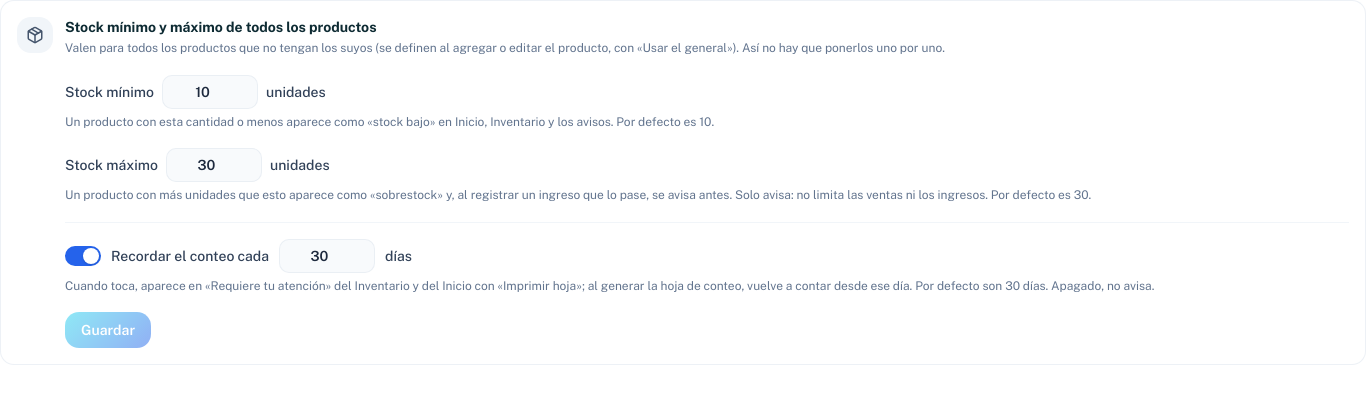
Configuración → Inventario › el máximo debe ser mayor que el mínimo y los dos deben ser números dentro del rango
This screenshot has width=1366, height=402.
Replace the text in the number field labelled "Stock máximo unidades" with "10" at (214, 165), box [166, 148, 262, 182]
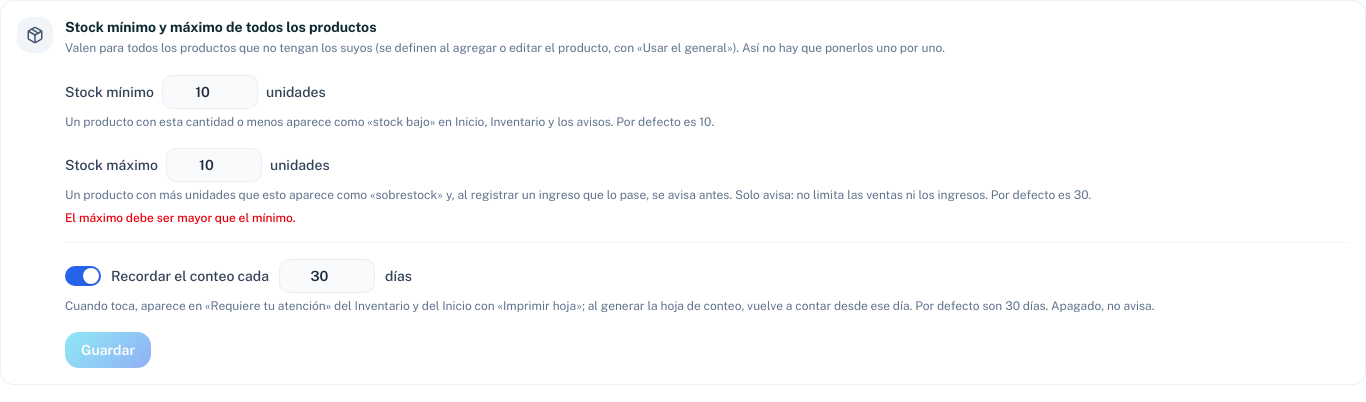
Check: the button "Guardar" is disabled, box [65, 332, 151, 368]
Check: the message reads "El máximo debe ser mayor que el mínimo.", box [65, 210, 296, 224]
Replace the text in the number field labelled "Stock máximo unidades" with "0" at (214, 165), box [166, 148, 262, 182]
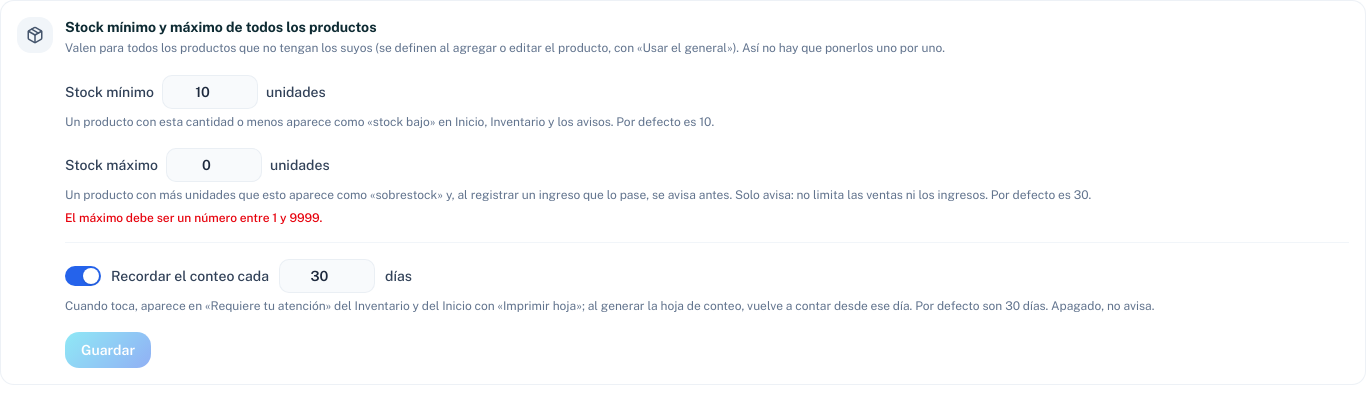
Check: the message shows "El máximo debe ser un número entre 1 y 9999", box [65, 210, 322, 224]
Replace the text in the number field labelled "Stock máximo unidades" with "30" at (214, 165), box [166, 148, 262, 182]
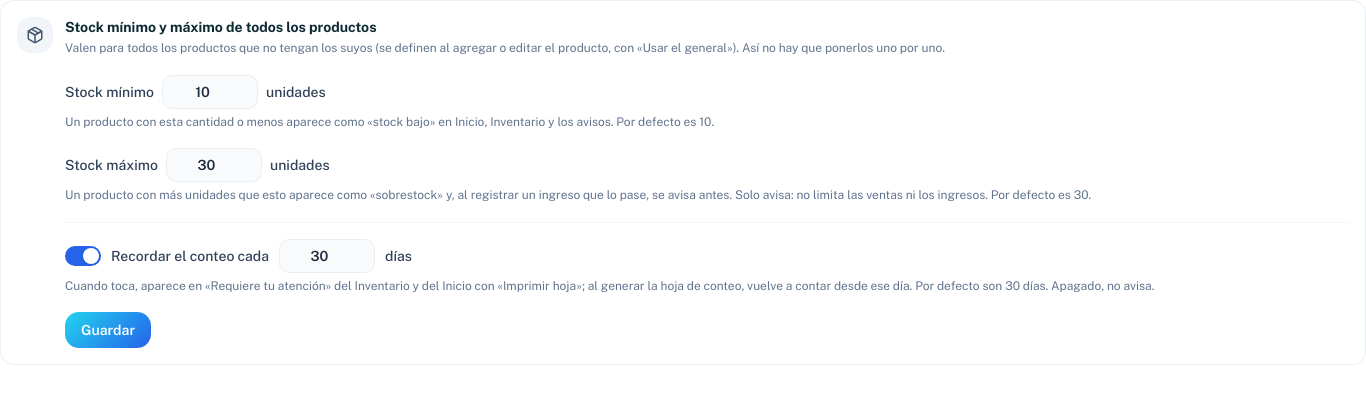
Replace the text in the number field labelled "Stock mínimo unidades" with "-1" at (210, 92), box [162, 74, 258, 108]
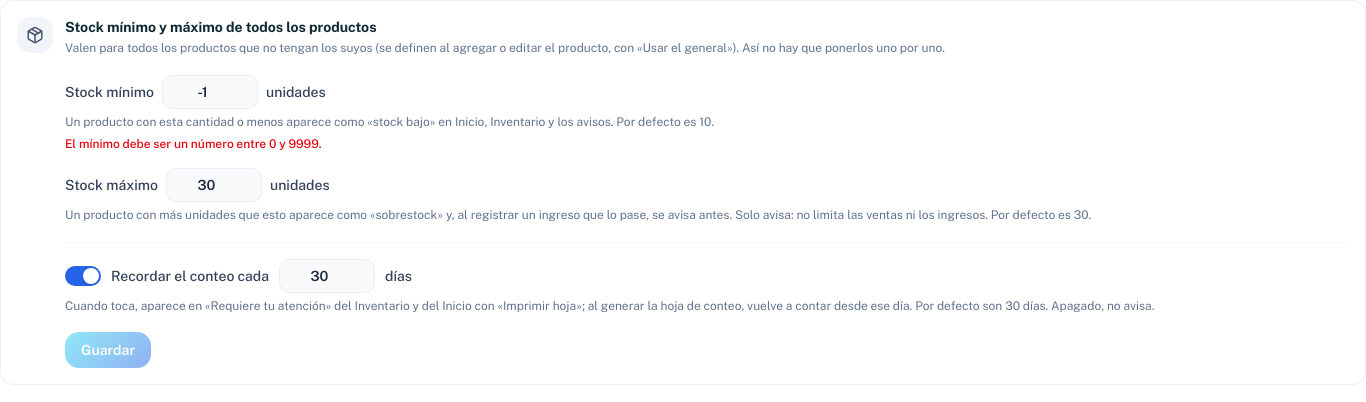
Check: the message shows "El mínimo debe ser un número entre 0 y 9999", box [65, 137, 322, 151]
